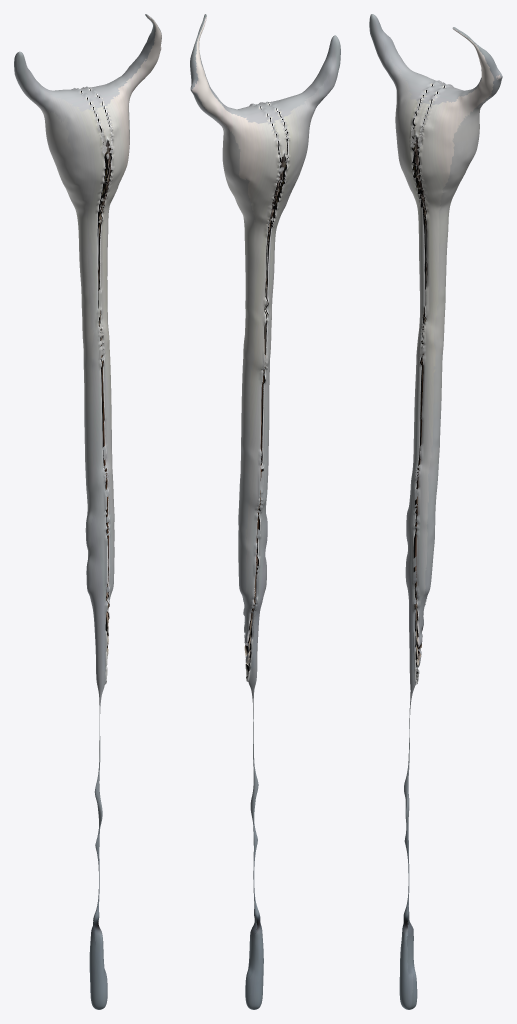
Rendered from kfl-2202.glb.
3 renders of one model, left to right at view 1: azimuth 30°, elevation 25°; view 2: azimuth 210°, elevation 25°; view 3: azimuth 330°, elevation 25°, orthographic. The views are drawn at different scales.
Visible parts, largest first — view 1: kfl-2202; view 2: kfl-2202; view 3: kfl-2202.
Boxes of the visible parts, x1,y1,x2,y2 form: kfl-2202: [14, 14, 161, 1009]; kfl-2202: [190, 14, 340, 1009]; kfl-2202: [369, 14, 502, 1009].
Size of the model in its own units: 0.1447 by 0.9834 by 0.0771.
4 materials, 4 textured.
